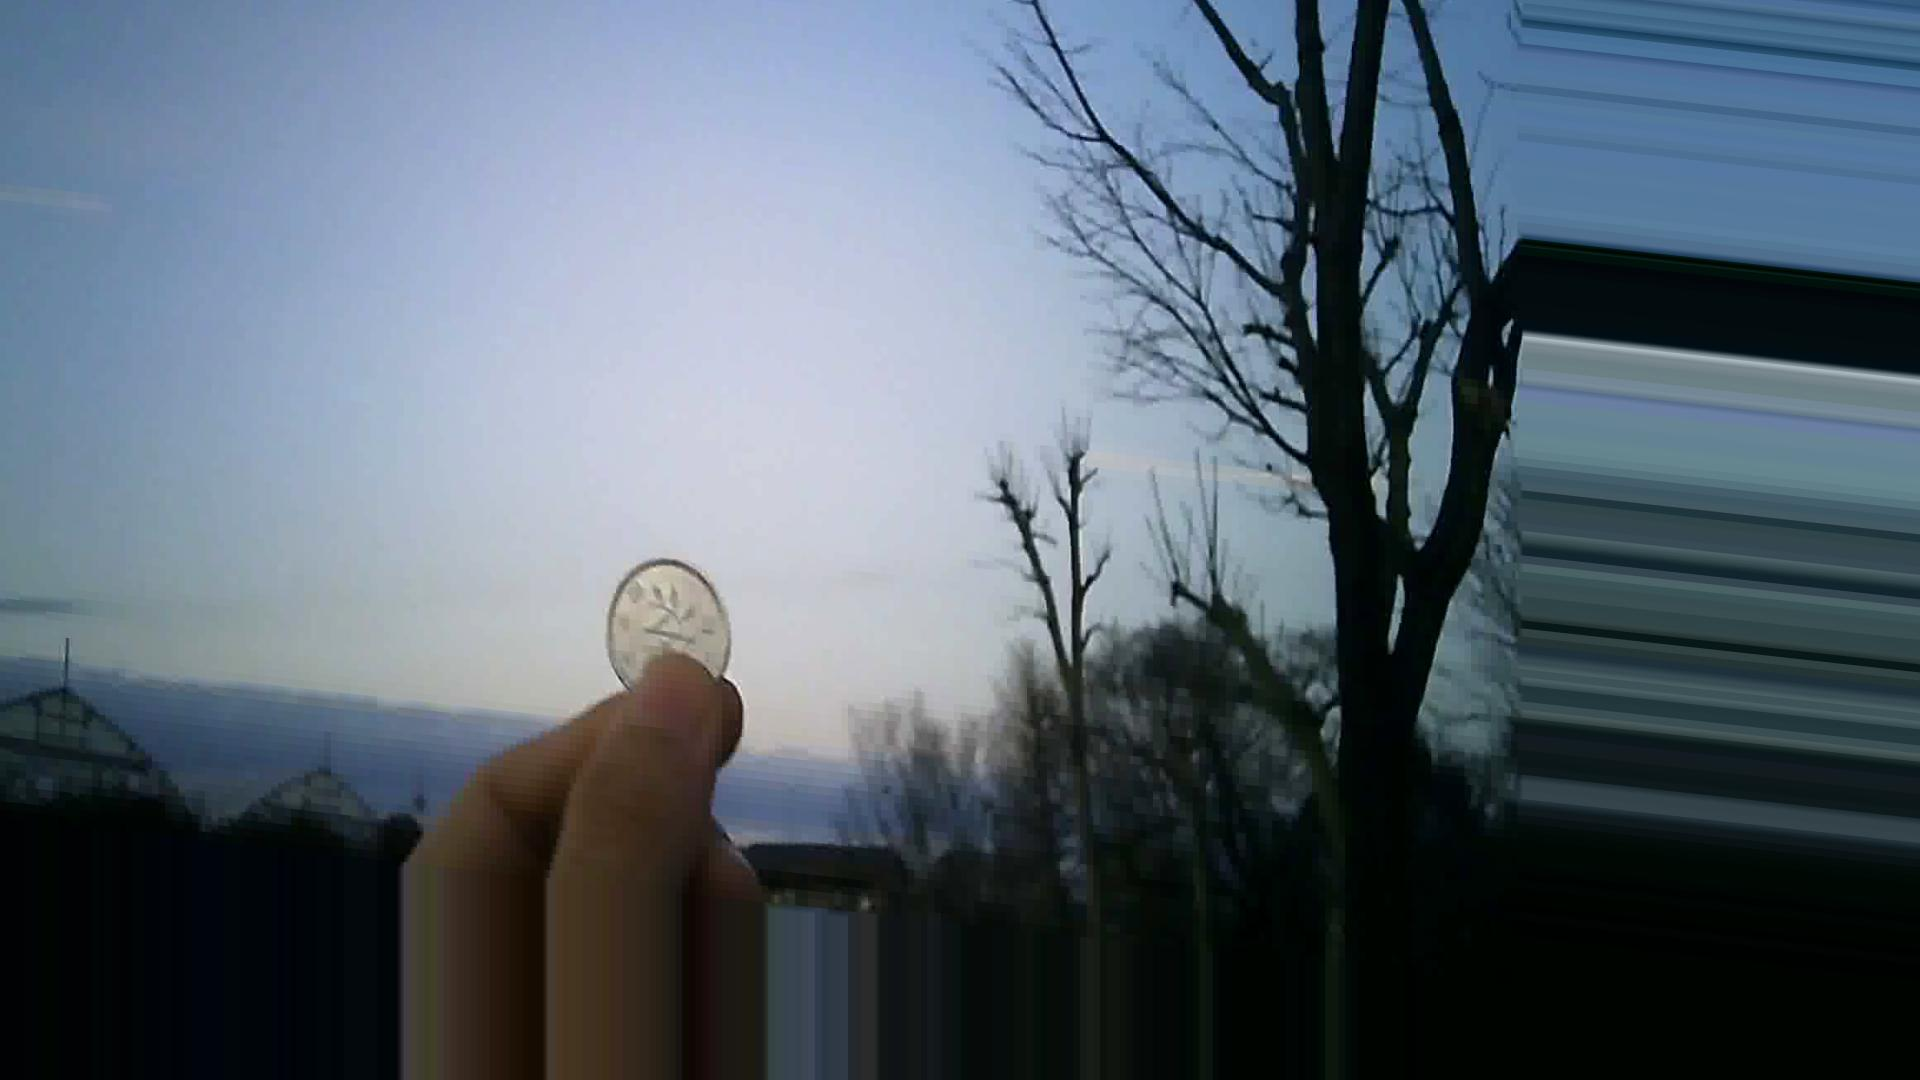1 Yen: (593, 543, 723, 694)
